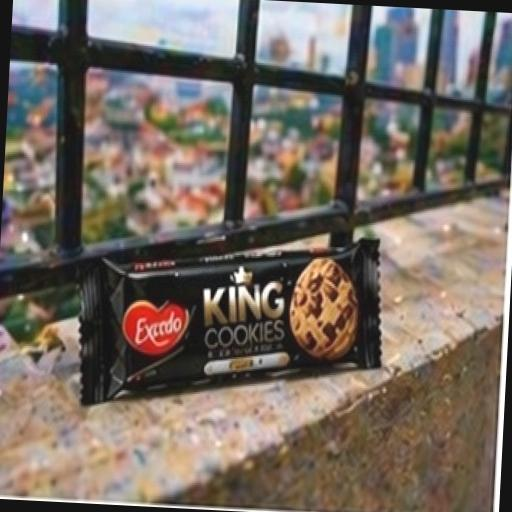king_cooking: (36, 187, 435, 425)
